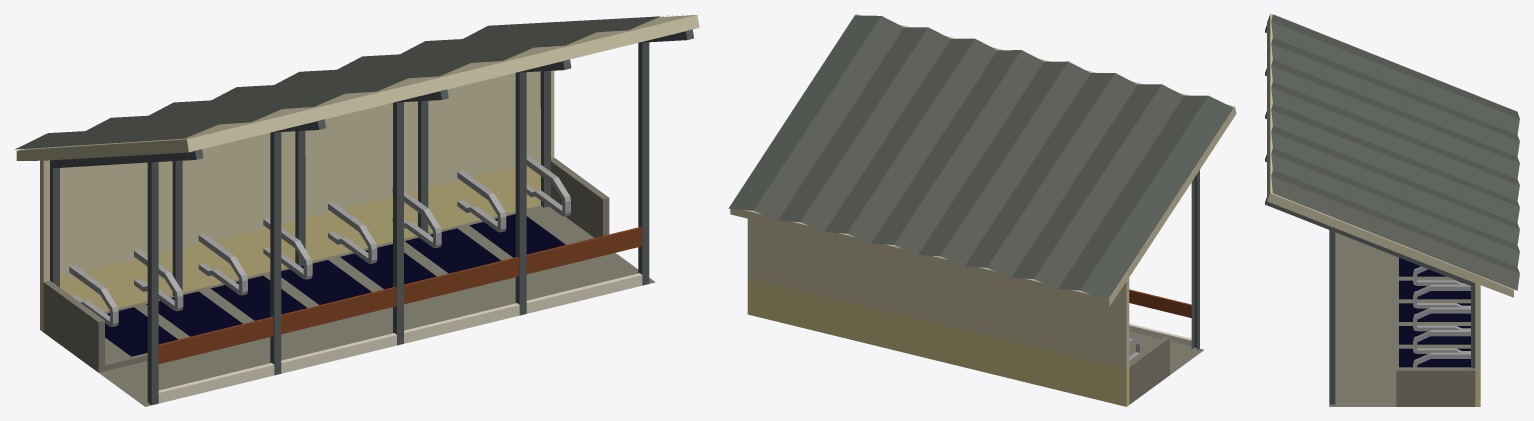
Rendered from CowStorageShed.fbx.
3 views of the same model, side by side, from view 1: azimuth 30°, elevation 25°; view 2: azimuth 150°, elevation 25°; view 3: azimuth 270°, elevation 25° (orthographic). The views are drawn at different scales.
Parts seen in each view (by area): view 1: Cow_Storage_Shed; view 2: Cow_Storage_Shed; view 3: Cow_Storage_Shed.
Part boxes in pixels (bbox=[...]): Cow_Storage_Shed: bbox=[15, 14, 699, 406]; Cow_Storage_Shed: bbox=[728, 14, 1236, 406]; Cow_Storage_Shed: bbox=[1265, 14, 1519, 406].
Bounding box in the file's own units: 15.81 × 8.99 × 9.5.
